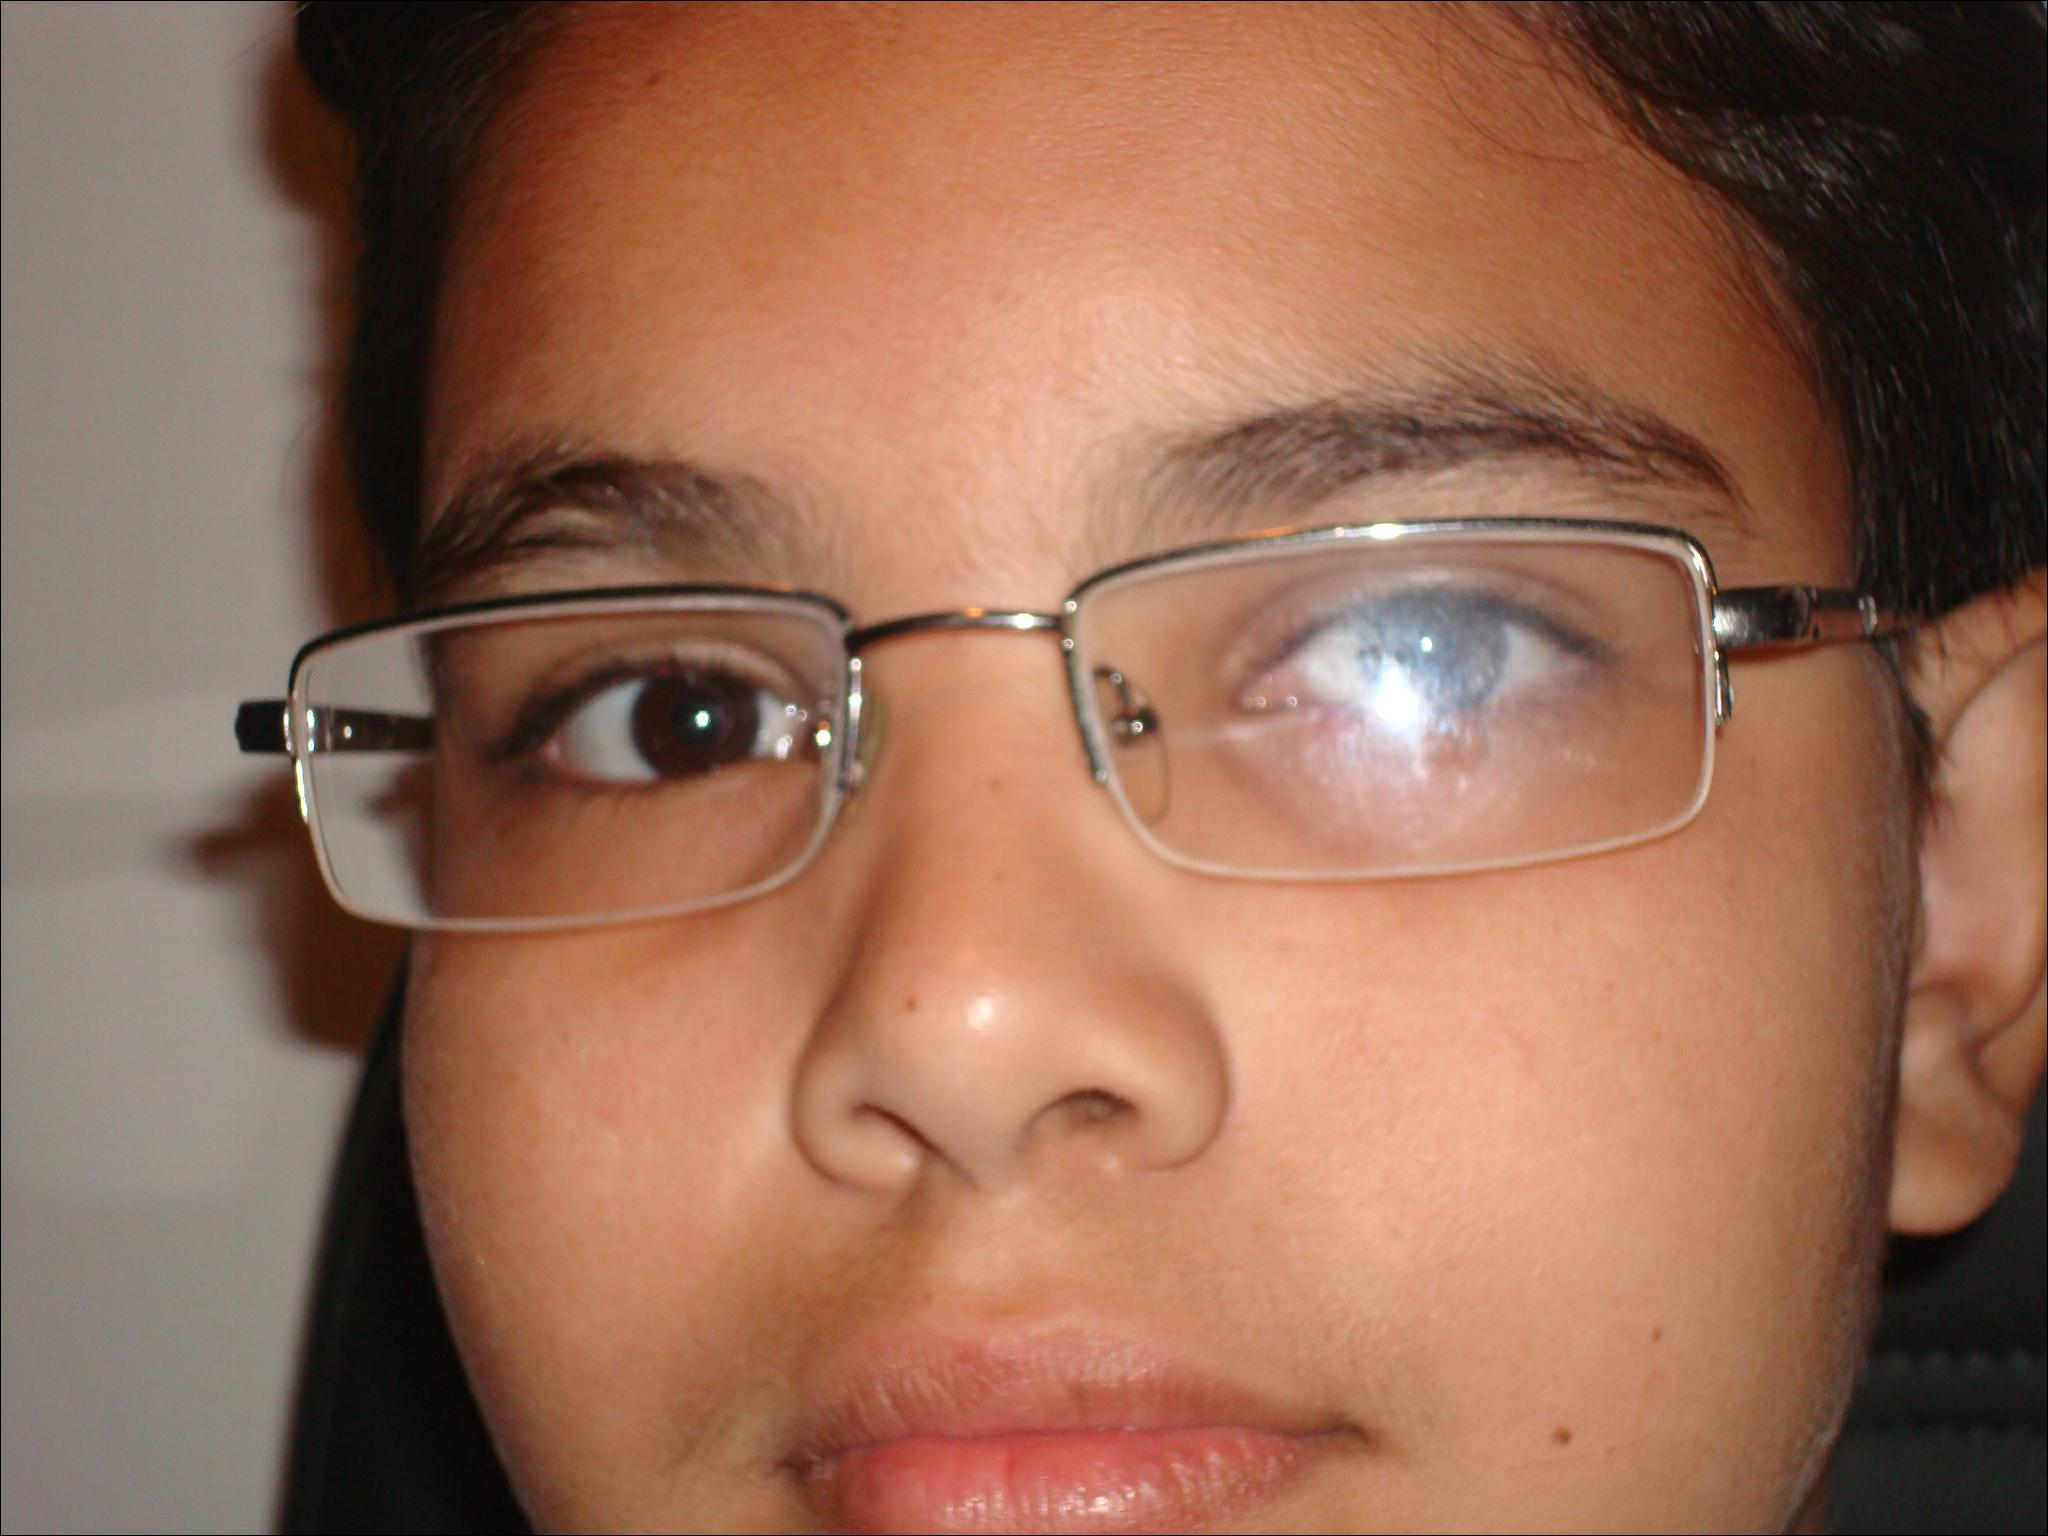flash: (1413, 632, 1442, 658), (690, 707, 716, 734)
limbo: (1355, 581, 1516, 716), (631, 665, 761, 778)
